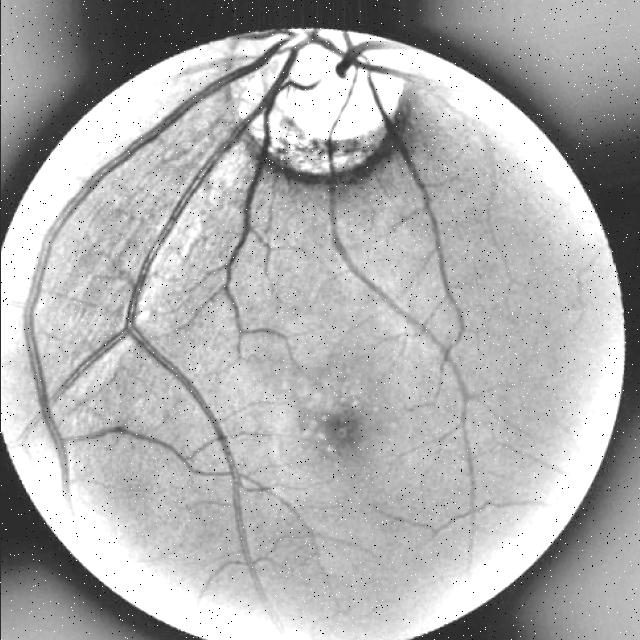Macula: (323, 407, 362, 456)
Nerves: (24, 34, 321, 573), (324, 34, 476, 513), (336, 42, 410, 120)
Optic Disk: (274, 32, 406, 143)
